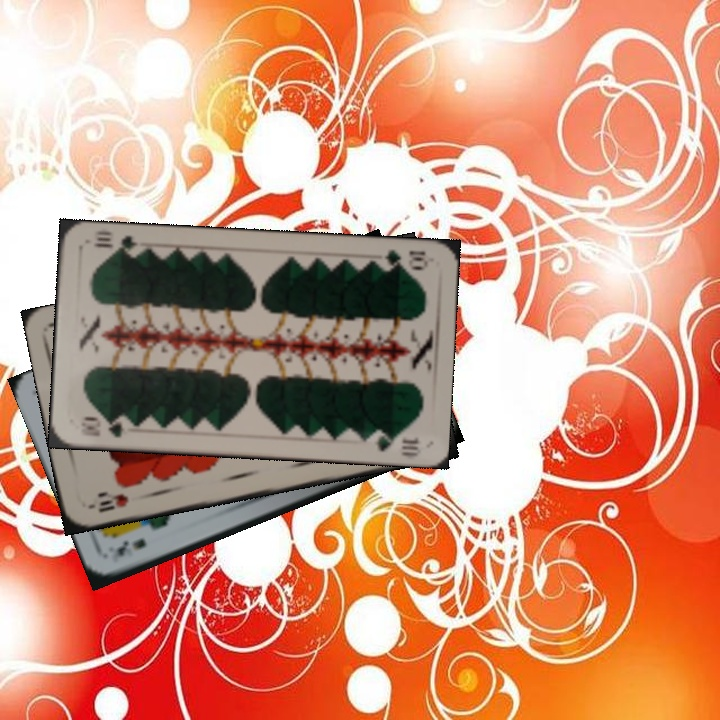EK: (112, 534, 149, 560)
G10: (373, 246, 430, 273), (77, 415, 126, 440)
H10: (94, 489, 131, 515)
